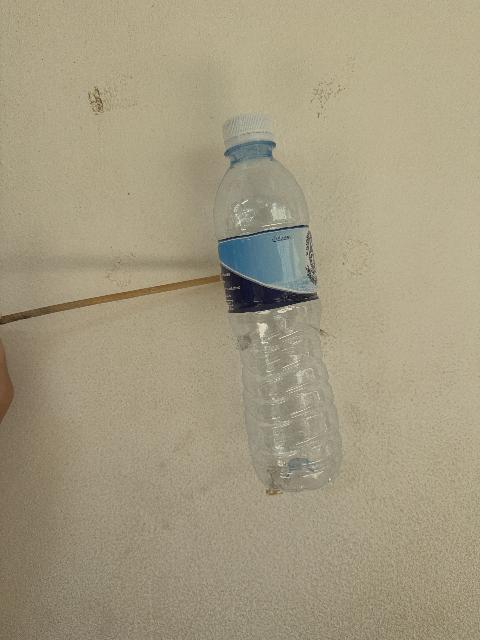bottle: (214, 114, 341, 491)
